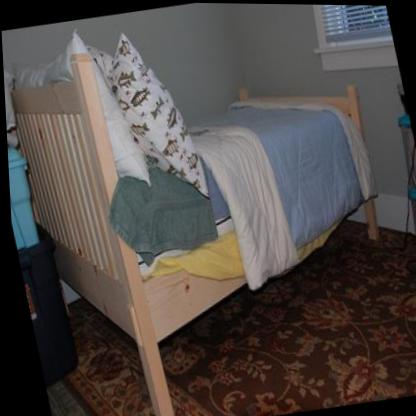Bed: (0, 9, 416, 416)
